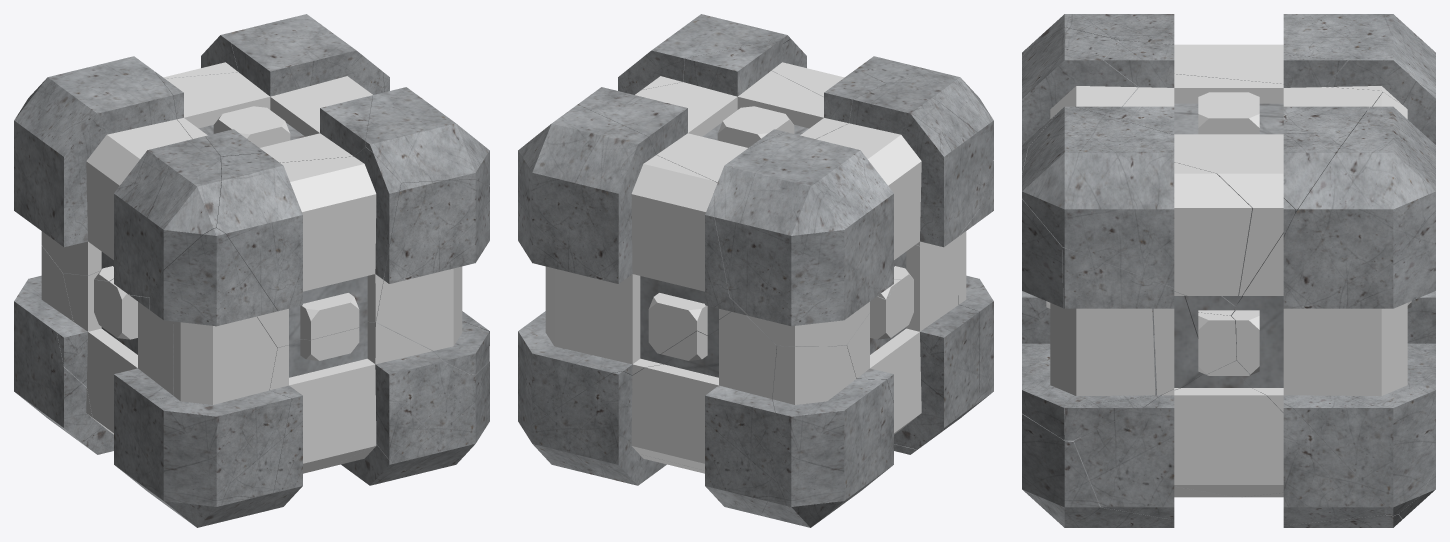
File: Fractured-Cube.fbx
3 views of the same model, side by side, from view 1: azimuth 30°, elevation 25°; view 2: azimuth 150°, elevation 25°; view 3: azimuth 270°, elevation 25° (orthographic). The views are drawn at different scales.
Visible parts, largest first — view 1: Cube_cell.007, Cube_cell.015, Cube_cell.002, Cube_cell.014, Cube_cell.006, Cube_cell.005, Cube_cell.012, Cube_cell.010, Cube_cell.013, Cube_cell.009, Cube_cell.004, Cube_cell.011; view 2: Cube_cell.007, Cube_cell.004, Cube_cell.001, Cube_cell.006, Cube_cell.010, Cube_cell.012, Cube_cell.013, Cube_cell.015, Cube_cell.002, Cube_cell; view 3: Cube_cell.004, Cube_cell.013, Cube_cell.003, Cube_cell.006, Cube_cell.005, Cube_cell.007, Cube_cell.002, Cube_cell.008, Cube_cell.009, Cube_cell.014, Cube_cell.018, Cube_cell.001 (+1 smaller).
Boxes of the visible parts, box(x1,y1,x2,y2) form: Cube_cell.007: box(14, 56, 221, 297); Cube_cell.015: box(149, 228, 291, 527); Cube_cell.002: box(216, 147, 400, 347); Cube_cell.014: box(235, 321, 468, 518); Cube_cell.006: box(155, 33, 384, 162); Cube_cell.005: box(376, 179, 489, 374); Cube_cell.012: box(57, 270, 181, 516); Cube_cell.010: box(14, 245, 103, 442); Cube_cell.013: box(365, 87, 489, 186); Cube_cell.009: box(330, 361, 489, 485); Cube_cell.004: box(163, 14, 331, 78); Cube_cell.011: box(75, 426, 113, 454); Cube_cell.007: box(714, 71, 993, 346); Cube_cell.004: box(518, 104, 731, 435); Cube_cell.001: box(527, 312, 776, 513); Cube_cell.006: box(578, 38, 885, 182); Cube_cell.010: box(761, 345, 893, 527); Cube_cell.012: box(847, 209, 979, 449); Cube_cell.013: box(618, 14, 790, 94); Cube_cell.015: box(951, 95, 993, 424); Cube_cell.002: box(771, 39, 935, 96); Cube_cell: box(548, 454, 764, 516); Cube_cell.004: box(1231, 82, 1435, 515); Cube_cell.013: box(1022, 106, 1252, 295); Cube_cell.003: box(1074, 374, 1385, 525); Cube_cell.006: box(1075, 40, 1382, 306); Cube_cell.005: box(1022, 148, 1203, 440); Cube_cell.007: box(1028, 14, 1435, 104); Cube_cell.002: box(1022, 27, 1241, 338); Cube_cell.008: box(1062, 248, 1185, 440); Cube_cell.009: box(1022, 413, 1236, 527); Cube_cell.014: box(1022, 291, 1050, 374); Cube_cell.018: box(1198, 312, 1236, 374); Cube_cell.001: box(1399, 291, 1435, 519).
Size of the model in its own units: 2 by 2 by 2.
